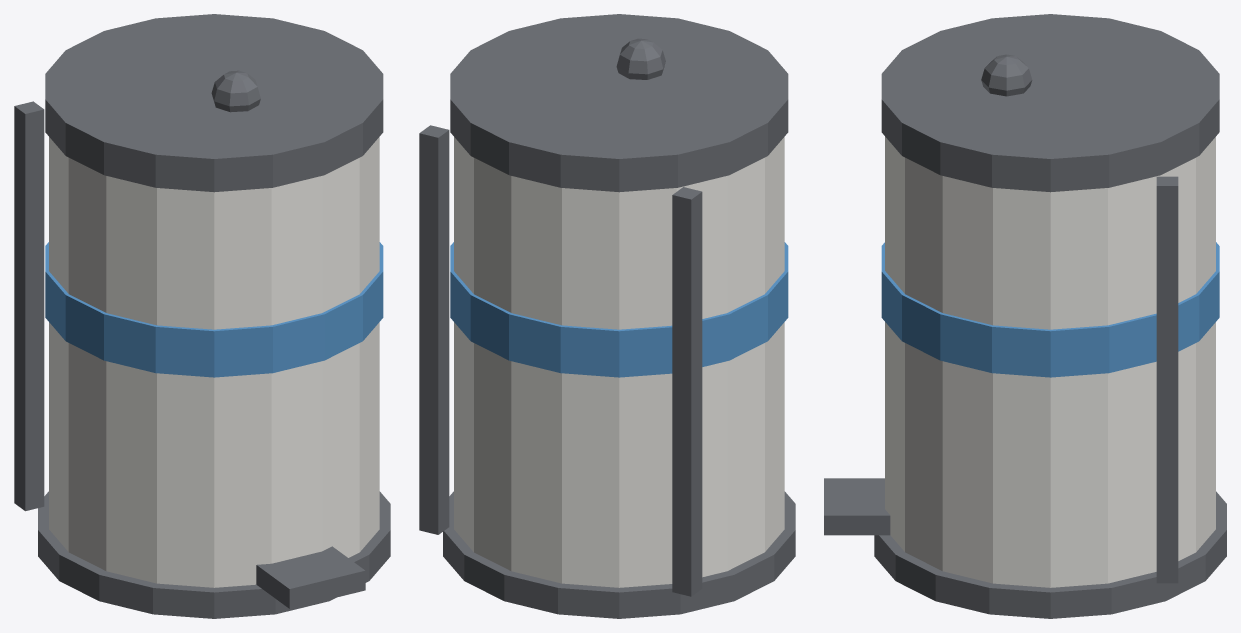
The model's file is boarding-kennels-and-cattery-boarding-kennels-and-catt-6cbef57c__35561.glb.
3 views of the same model, side by side, from view 1: azimuth 30°, elevation 25°; view 2: azimuth 150°, elevation 25°; view 3: azimuth 270°, elevation 25° (orthographic).
Visible parts, largest first — view 1: boarding-kennels-and-cattery-pedal-waste-bin, bin-lid/charcoal; view 2: boarding-kennels-and-cattery-pedal-waste-bin, bin-lid/charcoal; view 3: boarding-kennels-and-cattery-pedal-waste-bin, bin-lid/charcoal.
Part boxes in pixels (x1,y1,x2,y2): boarding-kennels-and-cattery-pedal-waste-bin: [14, 101, 390, 618]; bin-lid/charcoal: [45, 14, 383, 192]; boarding-kennels-and-cattery-pedal-waste-bin: [419, 125, 795, 618]; bin-lid/charcoal: [450, 14, 788, 192]; boarding-kennels-and-cattery-pedal-waste-bin: [824, 136, 1226, 618]; bin-lid/charcoal: [881, 14, 1219, 192].
Bounding box in the file's own units: 0.49 × 0.735 × 0.5512.
